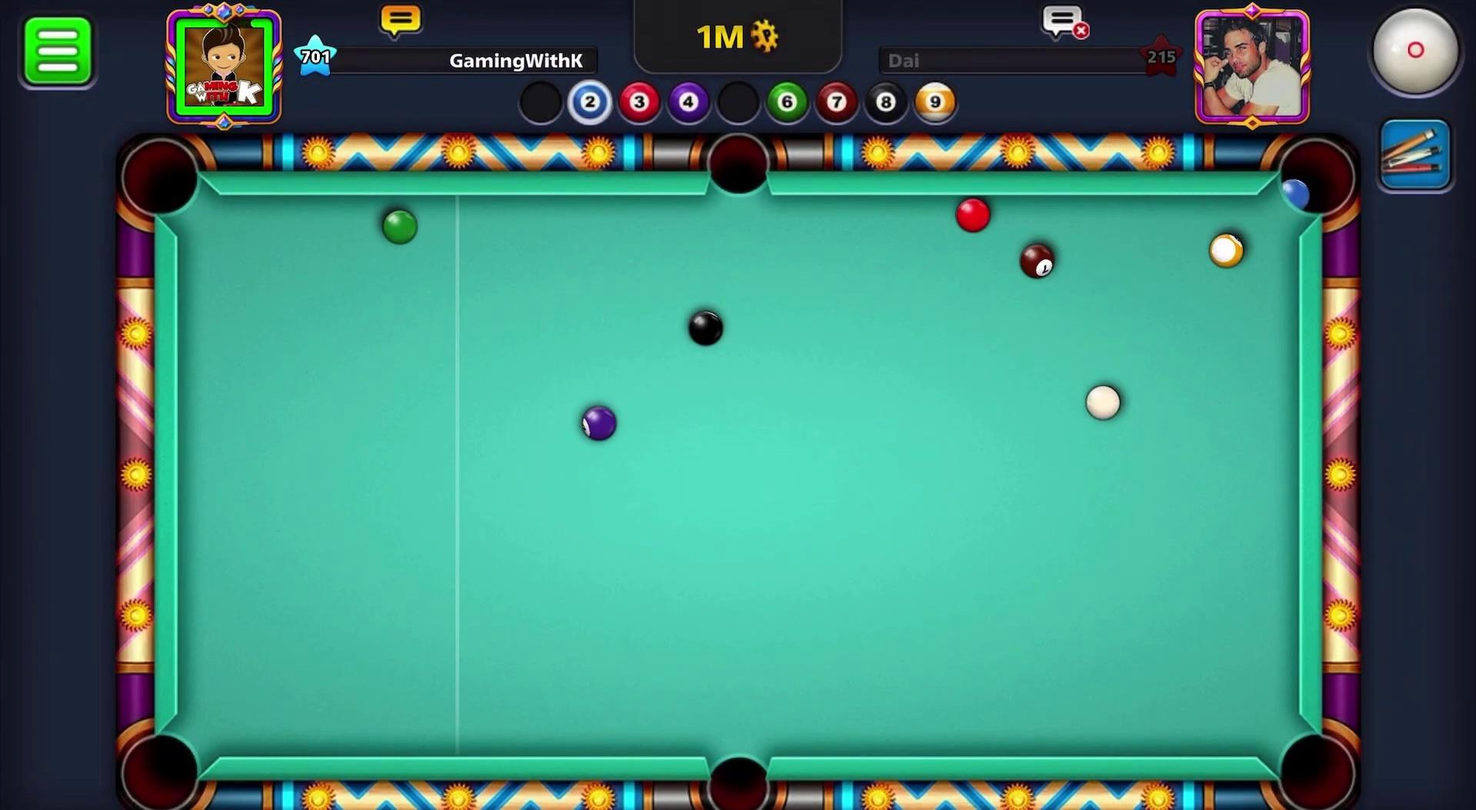Ball: (571, 399, 626, 447), (680, 306, 730, 350), (950, 192, 998, 236), (1204, 231, 1247, 277), (1017, 239, 1060, 284), (376, 206, 419, 247)
Hole: (1267, 130, 1366, 236), (111, 129, 208, 227), (1264, 717, 1366, 809), (111, 719, 212, 809), (695, 122, 785, 207), (685, 734, 786, 809)
Play_Area: (177, 194, 1297, 757)
Spin: (1344, 0, 1474, 115)
White: (1080, 378, 1129, 427)
